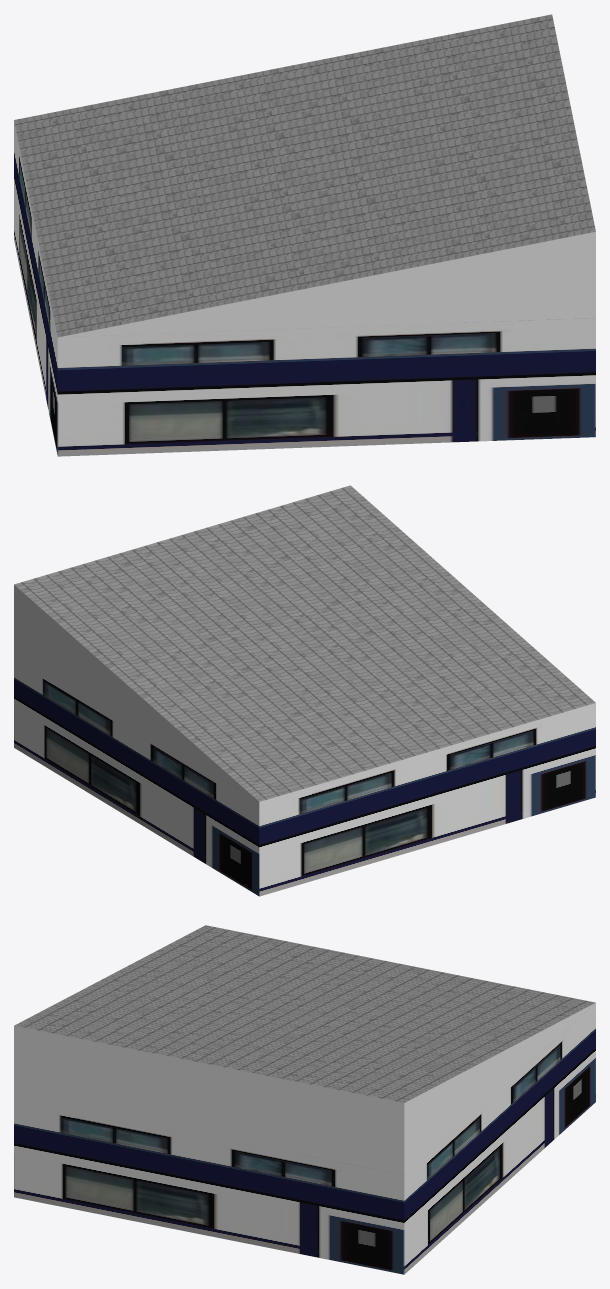
3 renders of one model, top to bottom at view 1: azimuth 30°, elevation 25°; view 2: azimuth 150°, elevation 25°; view 3: azimuth 270°, elevation 25°, orthographic. The views are drawn at different scales.
Visible parts, largest first — view 1: CityEngineMaterial_4_m, CityEngineMaterial_2_m, CityEngineMaterial_3_m; view 2: CityEngineMaterial_4_m, CityEngineMaterial_2_m, CityEngineMaterial_3_m; view 3: CityEngineMaterial_2_m, CityEngineMaterial_4_m, CityEngineMaterial_3_m.
Part boxes in pixels (x1,y1,x2,y2): CityEngineMaterial_4_m: (14, 14, 595, 337); CityEngineMaterial_2_m: (14, 121, 595, 456); CityEngineMaterial_3_m: (59, 231, 595, 337); CityEngineMaterial_4_m: (14, 485, 595, 801); CityEngineMaterial_2_m: (14, 653, 595, 896); CityEngineMaterial_3_m: (14, 585, 258, 801); CityEngineMaterial_2_m: (14, 1003, 595, 1274); CityEngineMaterial_4_m: (14, 925, 595, 1102); CityEngineMaterial_3_m: (14, 1003, 594, 1174).
Bounding box in the file's own units: 37.43 × 11.99 × 36.83.
